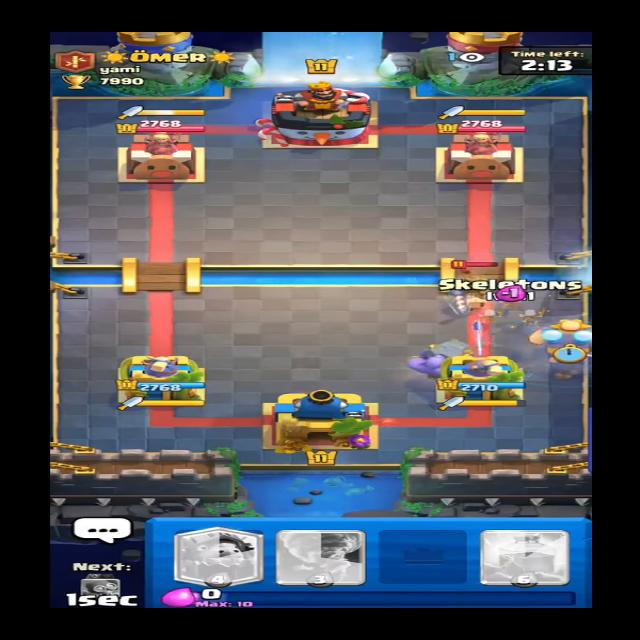prince: (441, 259, 501, 315)
